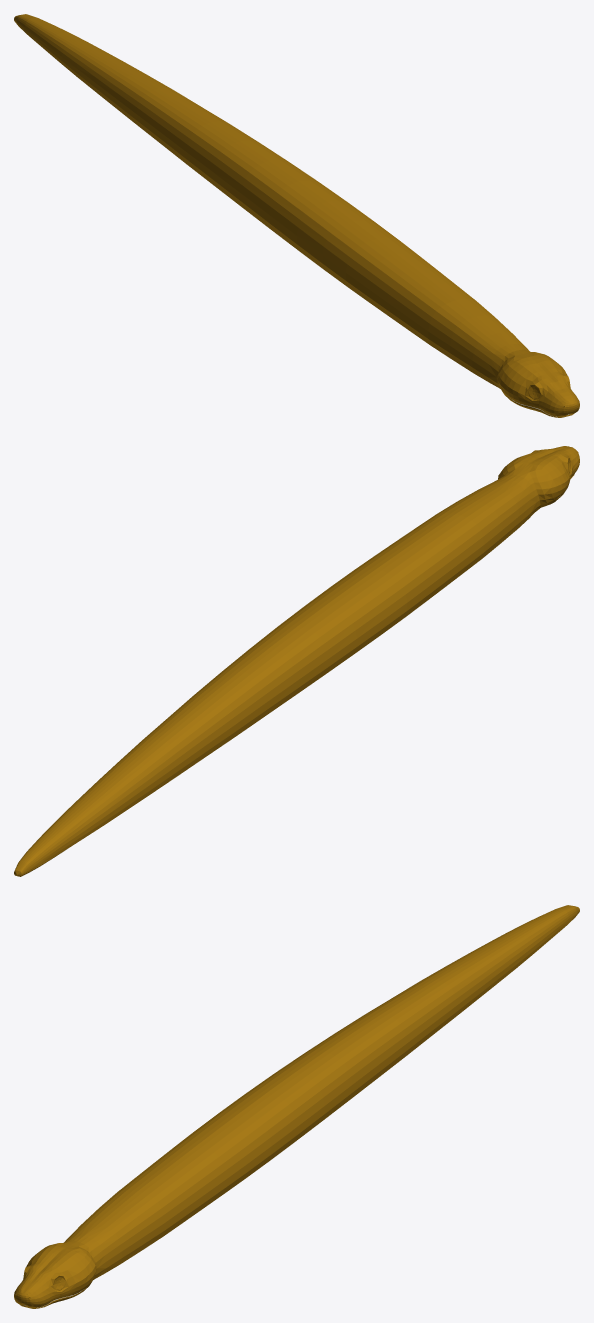
Rendered from python_python.obj.
3 views of the same model, one above another, from view 1: azimuth 30°, elevation 25°; view 2: azimuth 150°, elevation 25°; view 3: azimuth 330°, elevation 25° (orthographic).
Bounding box in the file's own units: 0.1907 × 0.1356 × 3.
